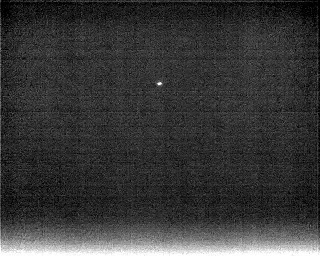AIRPLANE: (155, 79, 164, 88)
